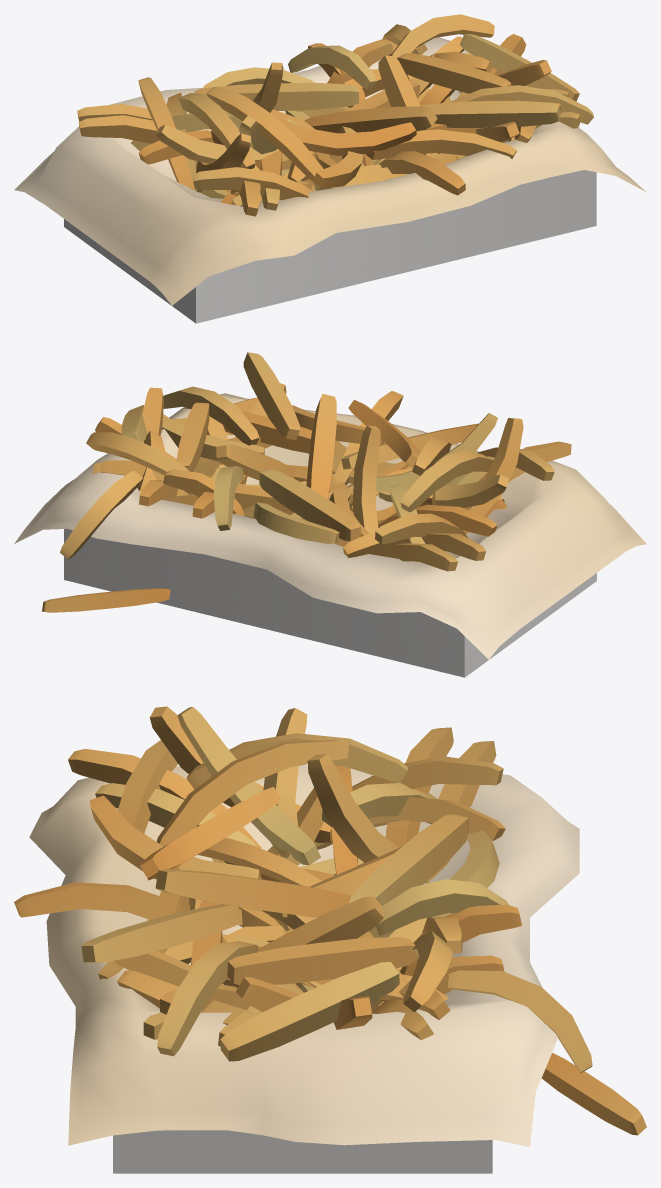
The model's file is ENV_Chips_Full.fbx.
The picture shows the model from 3 angles, top to bottom: view 1: azimuth 30°, elevation 25°; view 2: azimuth 150°, elevation 25°; view 3: azimuth 270°, elevation 25°; orthographic projection. The views are drawn at different scales.
Parts seen in each view (by area): view 1: ENV_Chips_Full; view 2: ENV_Chips_Full; view 3: ENV_Chips_Full.
Part boxes in pixels (x1=…): ENV_Chips_Full: x1=14, y1=14, x2=645, y2=323; ENV_Chips_Full: x1=14, y1=352, x2=646, y2=677; ENV_Chips_Full: x1=14, y1=706, x2=646, y2=1173.
Bounding box in the file's own units: 33.21 × 11.05 × 25.95.
